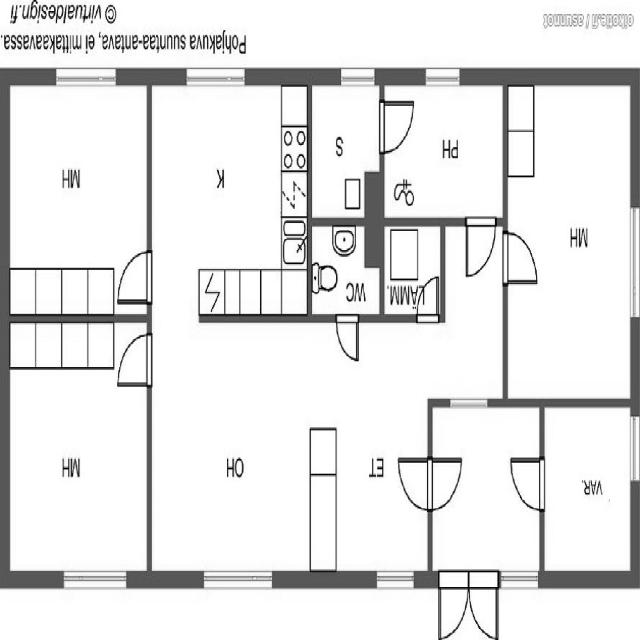door: (382, 223, 443, 323), (461, 219, 542, 281), (395, 457, 462, 514), (112, 242, 155, 308), (462, 212, 500, 281), (376, 93, 416, 157), (114, 327, 153, 390), (508, 454, 548, 515), (503, 224, 541, 286), (333, 313, 362, 367), (414, 275, 443, 325)
window: (58, 562, 132, 596), (199, 564, 276, 595), (50, 63, 120, 94), (181, 63, 250, 94), (624, 201, 640, 323), (372, 565, 420, 594), (496, 565, 541, 595), (335, 62, 378, 92), (625, 406, 640, 492), (422, 62, 464, 92), (446, 391, 492, 414)
zone: (150, 311, 430, 572), (503, 79, 636, 408), (4, 317, 152, 579), (151, 83, 305, 318), (6, 75, 150, 316), (428, 406, 544, 578), (380, 81, 506, 224), (541, 402, 635, 580), (432, 220, 506, 406), (309, 80, 381, 219), (307, 218, 378, 320), (381, 222, 442, 322), (436, 571, 500, 640)
